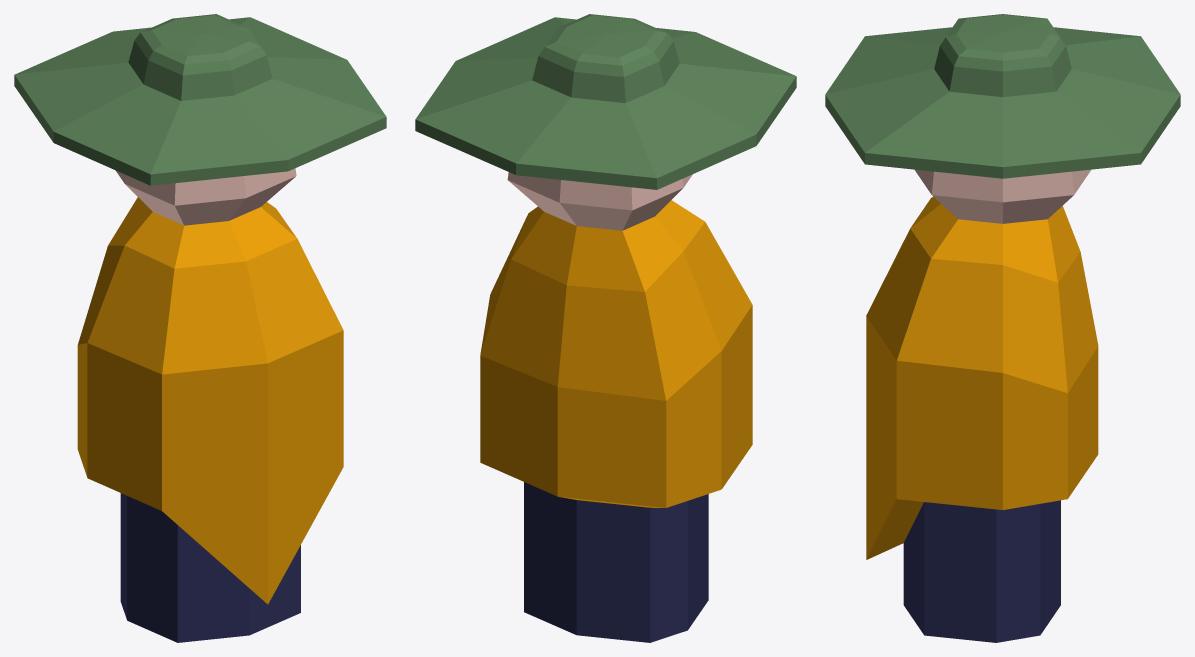
File: Character3.fbx
3 renders of one model, left to right at view 1: azimuth 30°, elevation 25°; view 2: azimuth 150°, elevation 25°; view 3: azimuth 270°, elevation 25°, orthographic. The views are drawn at different scales.
Parts seen in each view (by area): view 1: pCube41; view 2: pCube41; view 3: pCube41.
Boxes of the visible parts, bbox=[...] form: pCube41: bbox=[14, 14, 386, 642]; pCube41: bbox=[415, 14, 796, 642]; pCube41: bbox=[825, 14, 1180, 642].
Size of the model in its own units: 0.5693 by 1.05 by 0.5889.
